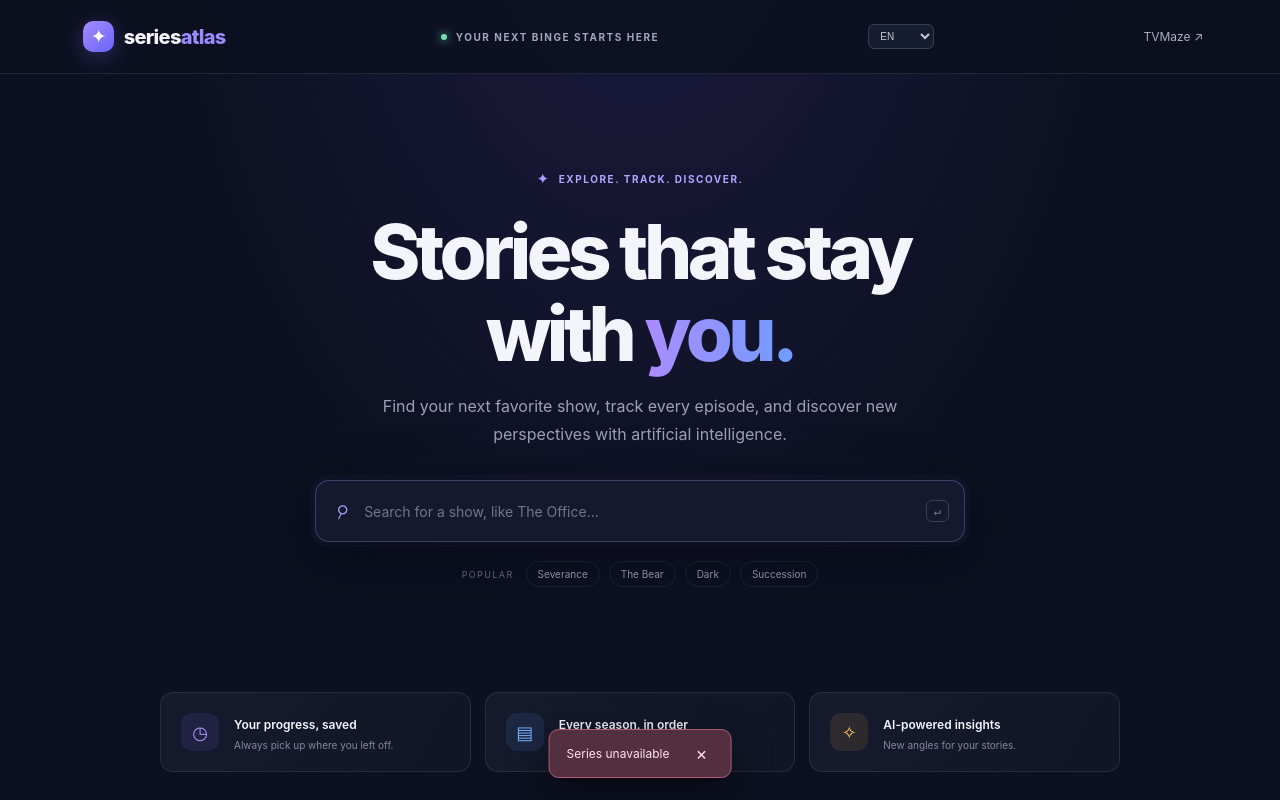
Test case: application entrypoint › shows route errors and reacts to browser navigation
Expected: the message shows "Series unavailable", [567,746,670,761]
Click the button "×".
click(701, 754)  # box [690,742,713,765]
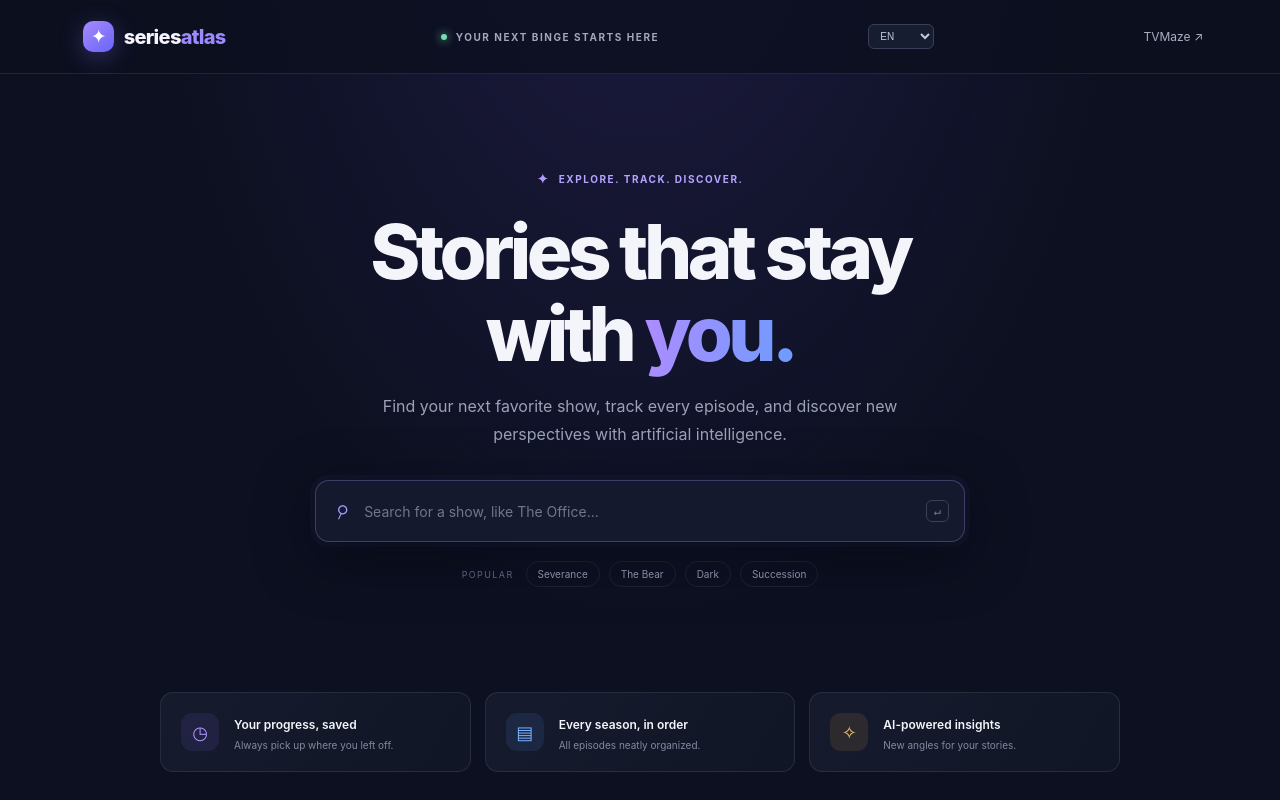
Expected: the field named "Search shows" is shown, [350,503,926,520]
Result: the message "Series unavailable ×" is gone
